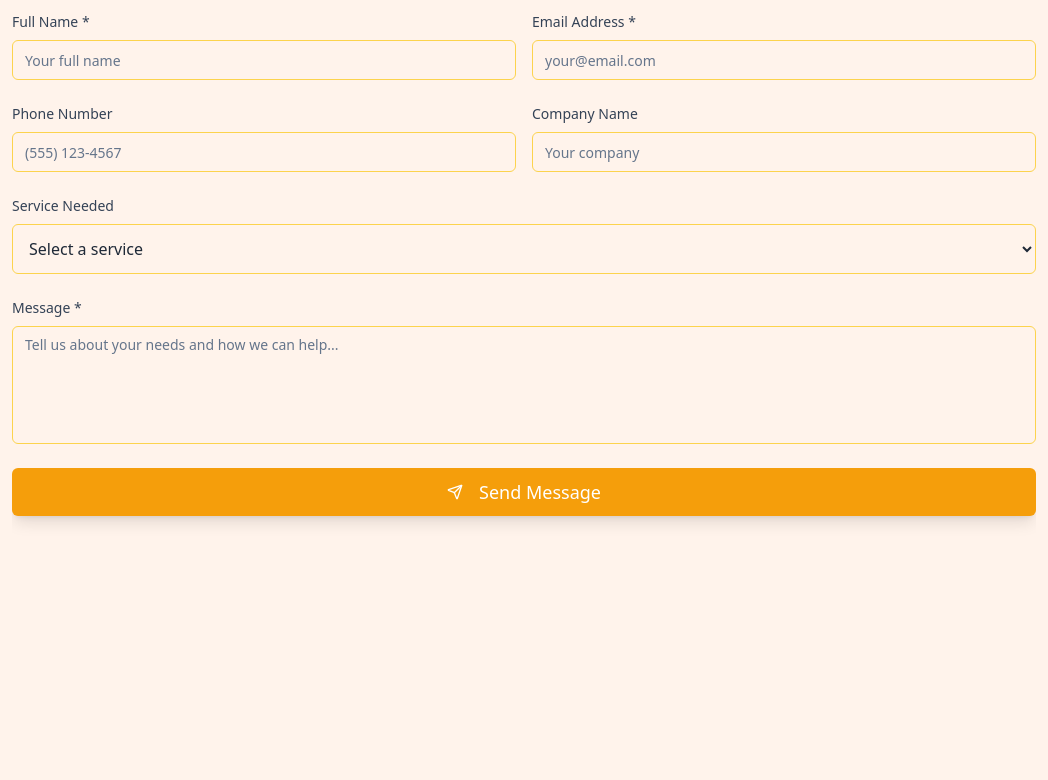
Scenario: ContactForm › shows validation errors for required fields
Step 1. Click the button "Send Message" → (524, 492), box [12,468,1036,516]
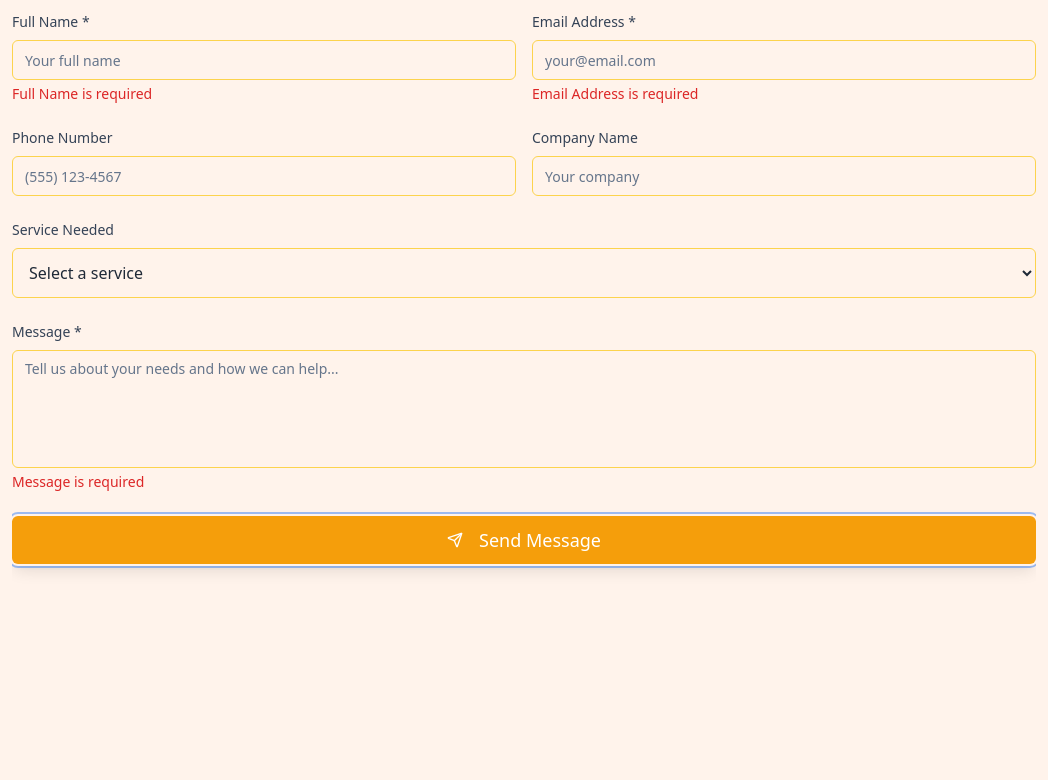
Expected: the text "Full Name is required" is shown, [12,84,152,103]
Expected: the text "Email Address is required" is shown, [532,84,698,103]
Expected: the text "Message is required" is shown, [12,472,144,491]
